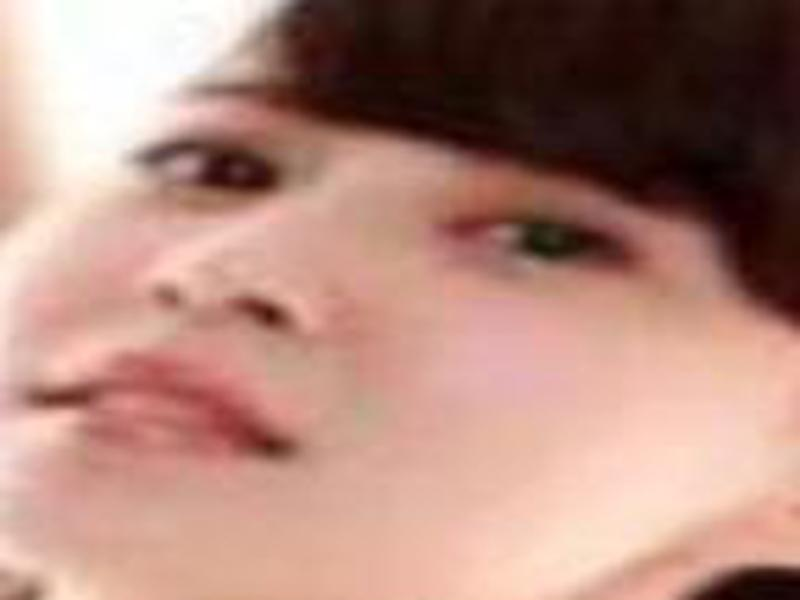without_mask: (6, 38, 712, 599)
